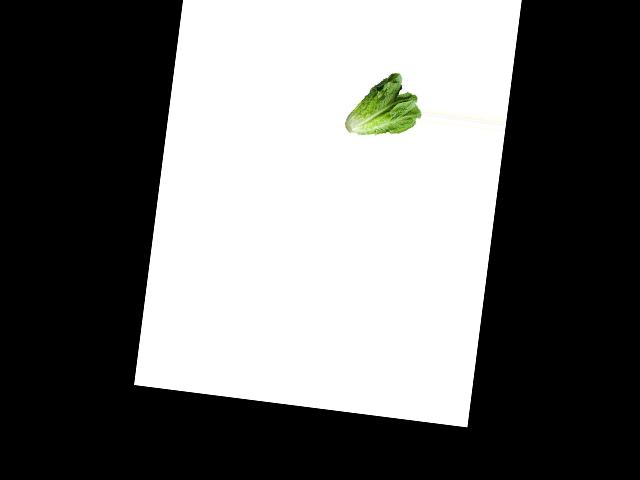lettuce: (344, 65, 427, 144)
